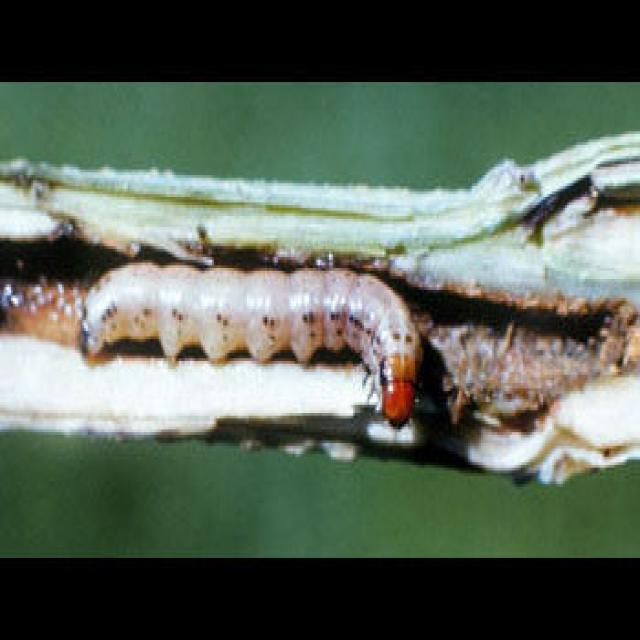cornborer-Larva-: (64, 234, 436, 447)
